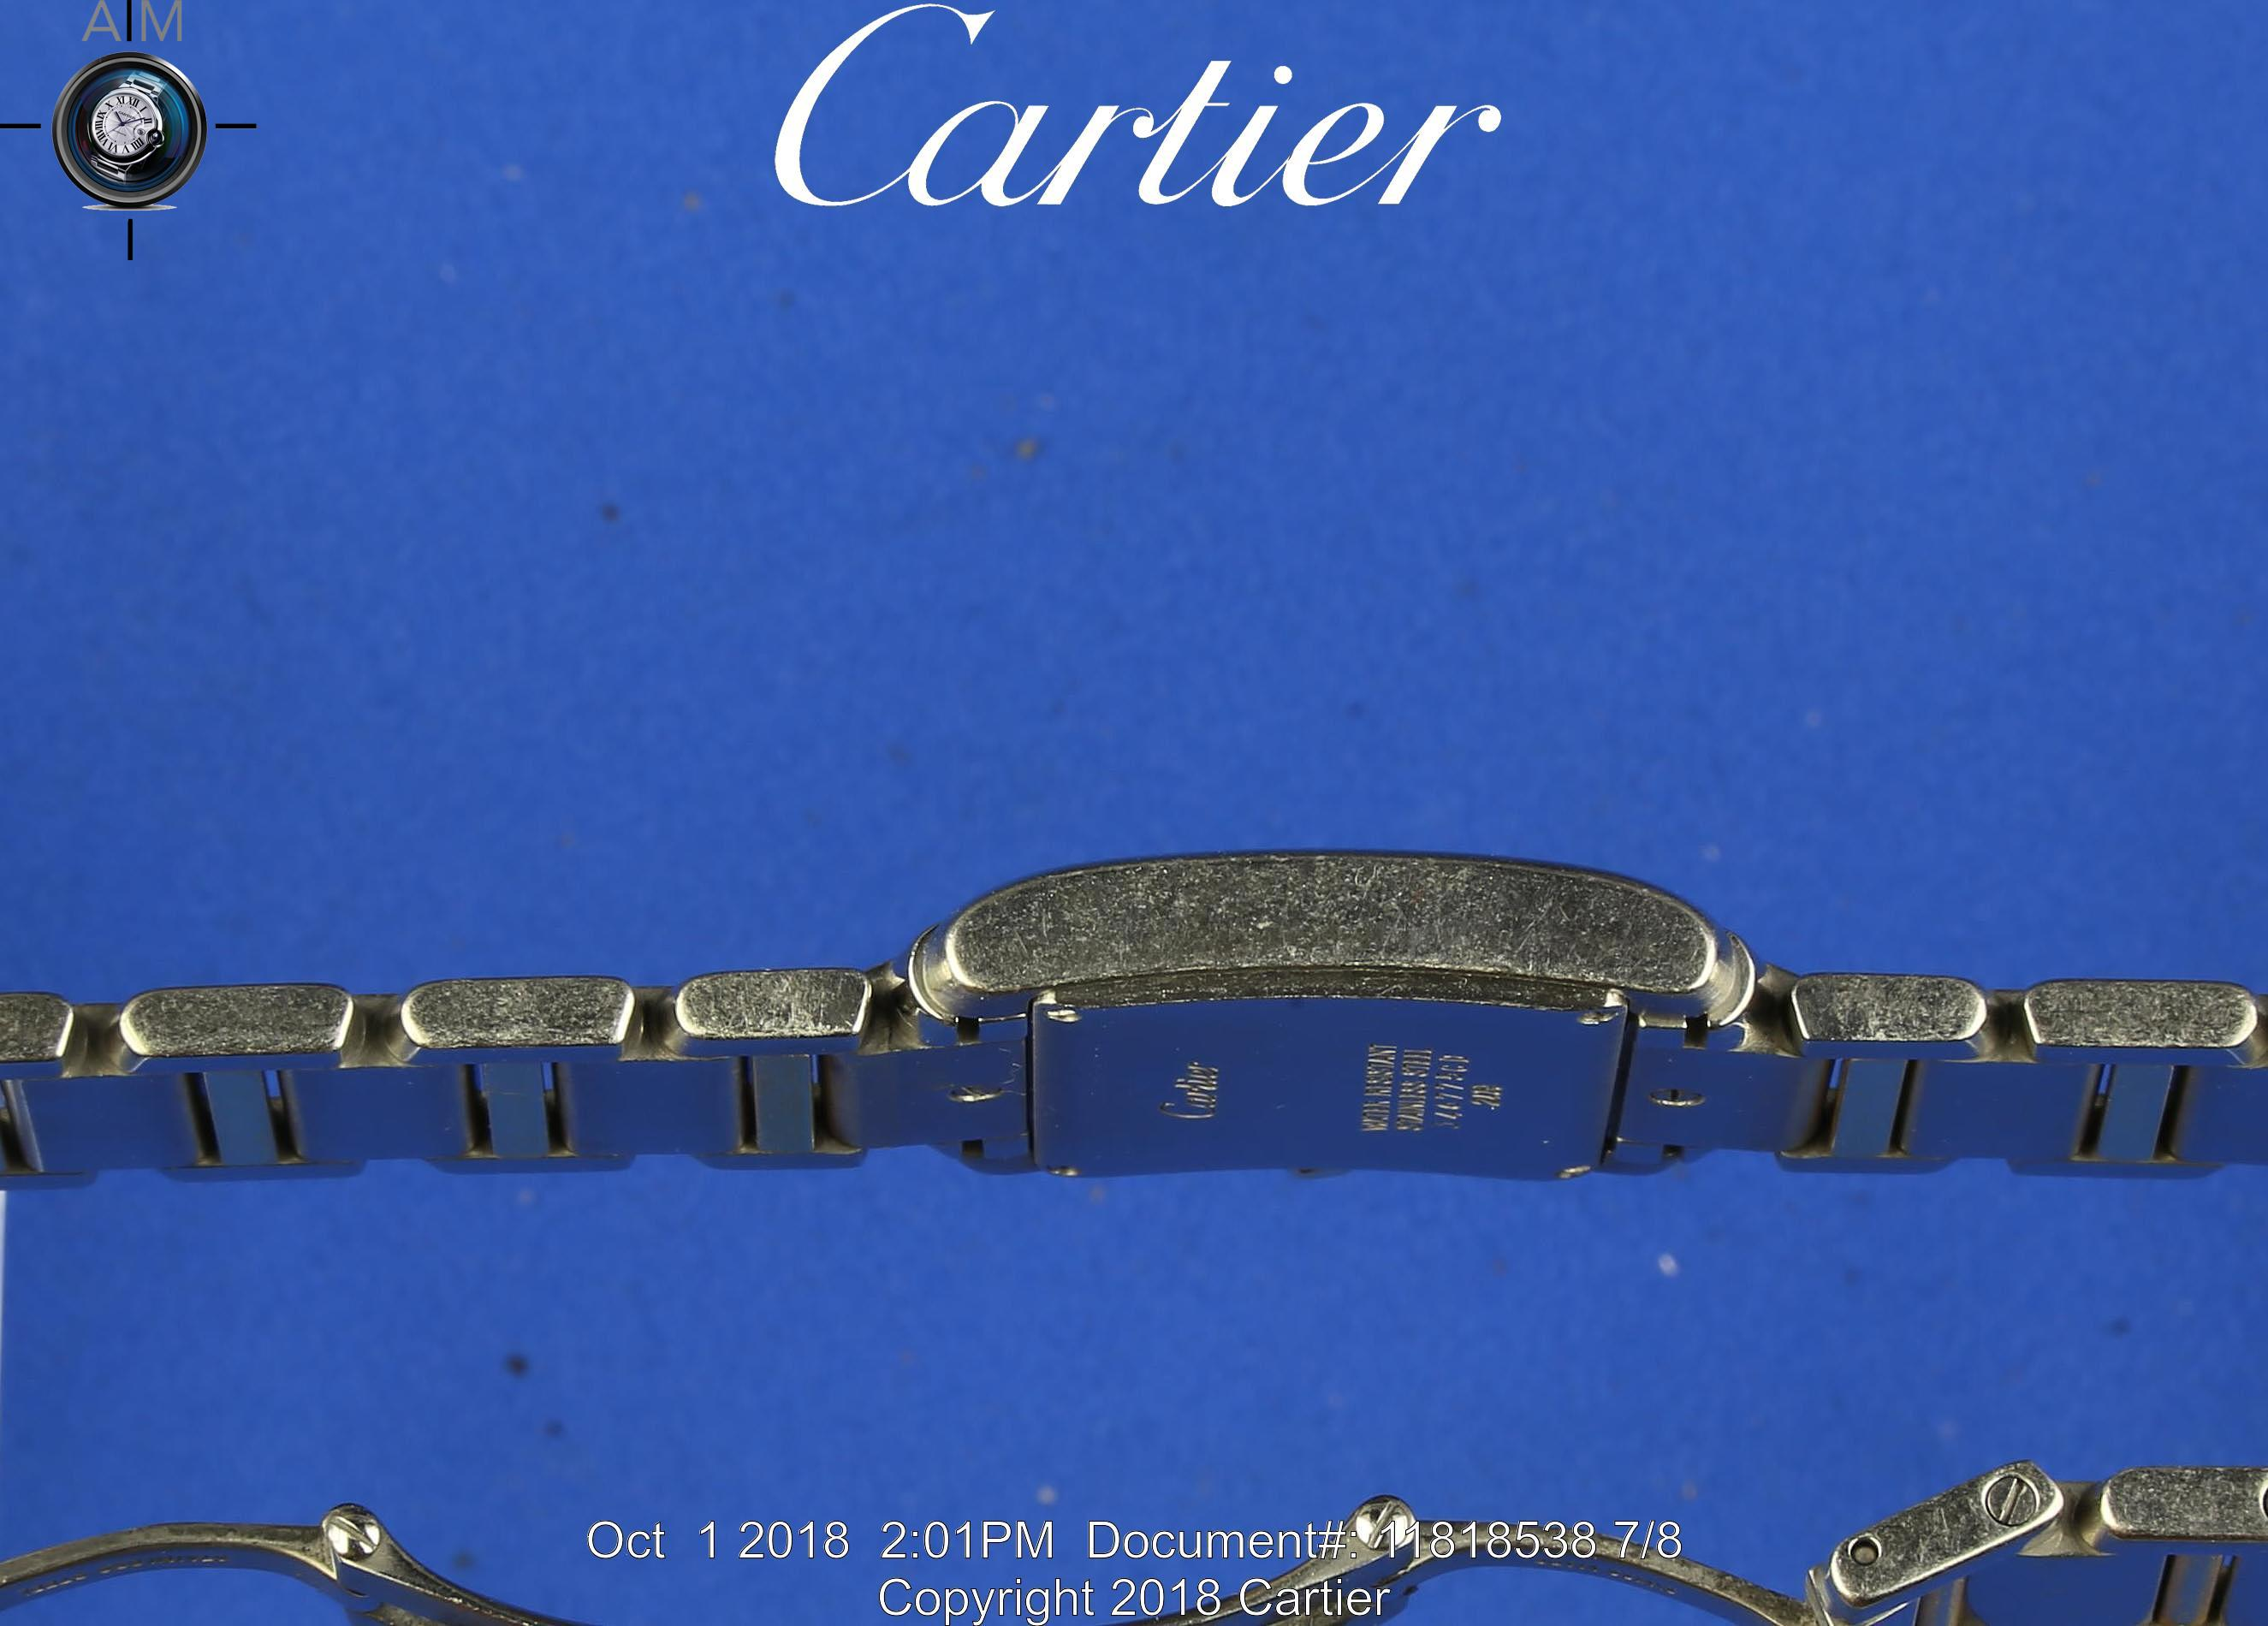watchback: (933, 899, 1714, 1204)
